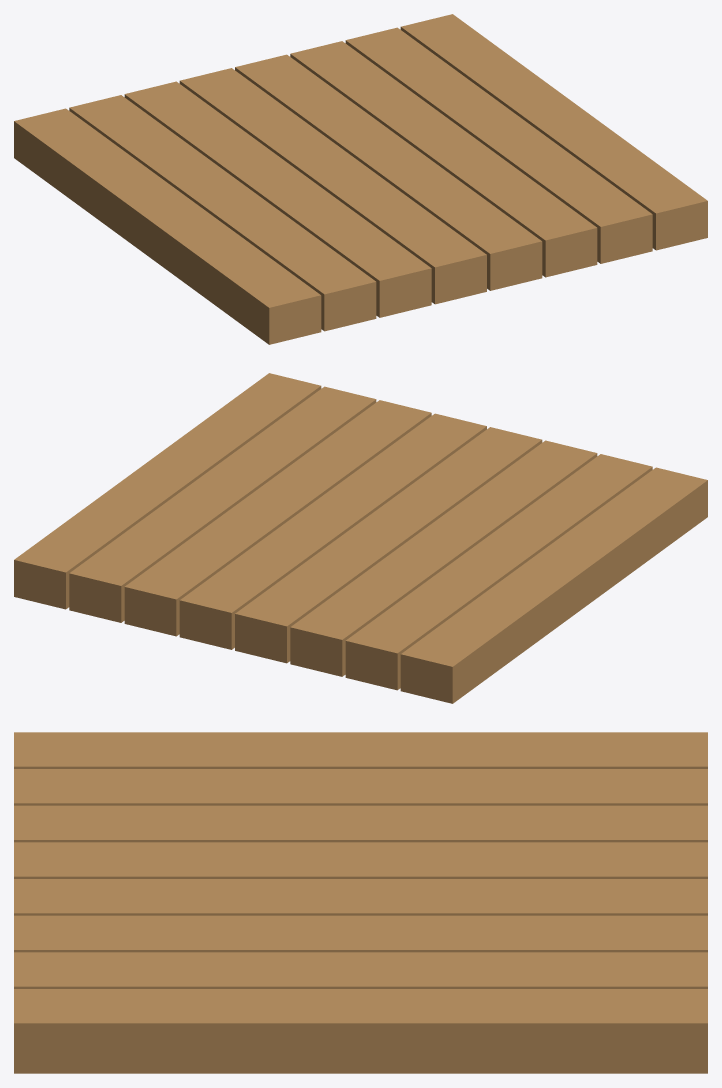
Rendered from wood_floor.glb.
The picture shows the model from 3 angles, top to bottom: view 1: azimuth 30°, elevation 25°; view 2: azimuth 150°, elevation 25°; view 3: azimuth 270°, elevation 25°; orthographic projection. The views are drawn at different scales.
Visible parts, largest first — view 1: wood_floor; view 2: wood_floor; view 3: wood_floor.
Part boxes in pixels (left/top/right/bottom): wood_floor: left=14, top=14, right=707, bottom=344; wood_floor: left=14, top=373, right=707, bottom=703; wood_floor: left=14, top=732, right=707, bottom=1073.
Bounding box in the file's own units: 1.98 × 0.16 × 2.
